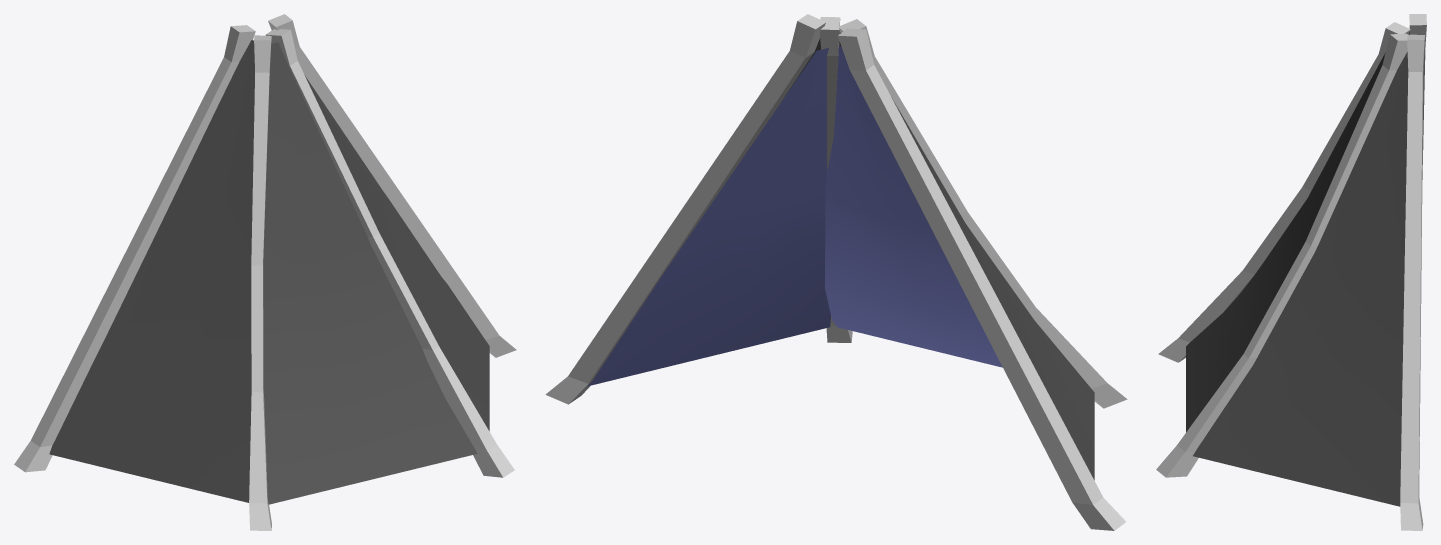
Rendered from BayRoof.fbx.
The picture shows the model from 3 angles, left to right: view 1: azimuth 30°, elevation 25°; view 2: azimuth 150°, elevation 25°; view 3: azimuth 270°, elevation 25°; orthographic projection. The views are drawn at different scales.
Visible parts, largest first — view 1: Roof_LOD0; view 2: Roof_LOD0; view 3: Roof_LOD0.
Boxes of the visible parts, left/top/right/bottom form: Roof_LOD0: left=14, top=14, right=516, bottom=530; Roof_LOD0: left=545, top=14, right=1127, bottom=530; Roof_LOD0: left=1156, top=14, right=1426, bottom=530.
Size of what is drawn, in the model's own units: 218 by 164 by 103.
